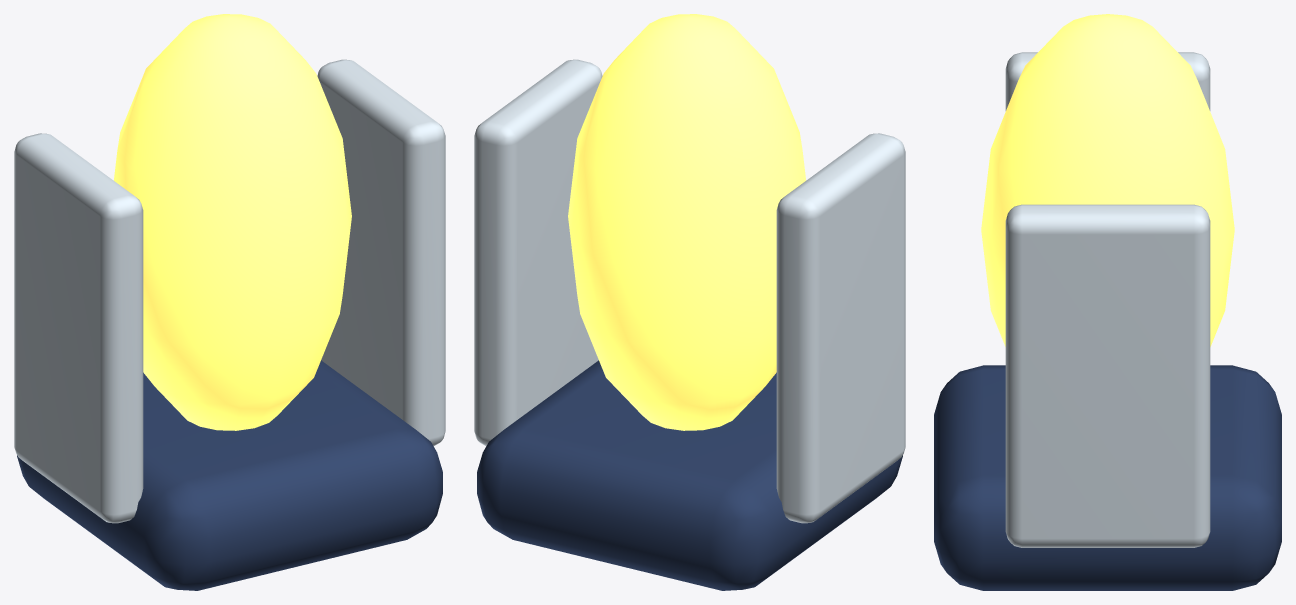
Rendered from relay.glb.
The picture shows the model from 3 angles, left to right: view 1: azimuth 30°, elevation 25°; view 2: azimuth 150°, elevation 25°; view 3: azimuth 270°, elevation 25°; orthographic projection. The views are drawn at different scales.
Visible parts, largest first — view 1: Relay crystal, Relay pedestal, Relay fin, Relay fin.001; view 2: Relay crystal, Relay pedestal, Relay fin, Relay fin.001; view 3: Relay fin.001, Relay crystal, Relay pedestal, Relay fin.
Part boxes in pixels (box(x1,y1,x2,y2)): Relay crystal: box(114, 14, 351, 430); Relay pedestal: box(17, 360, 442, 590); Relay fin: box(14, 133, 143, 523); Relay fin.001: box(317, 59, 445, 445); Relay crystal: box(568, 14, 805, 430); Relay pedestal: box(477, 360, 902, 590); Relay fin: box(776, 133, 905, 523); Relay fin.001: box(474, 59, 602, 445); Relay fin.001: box(1005, 204, 1210, 547); Relay crystal: box(981, 14, 1234, 346); Relay pedestal: box(934, 365, 1281, 590); Relay fin: box(1005, 52, 1210, 110).
Size of the model in its own units: 1 by 1.39 by 0.85.
